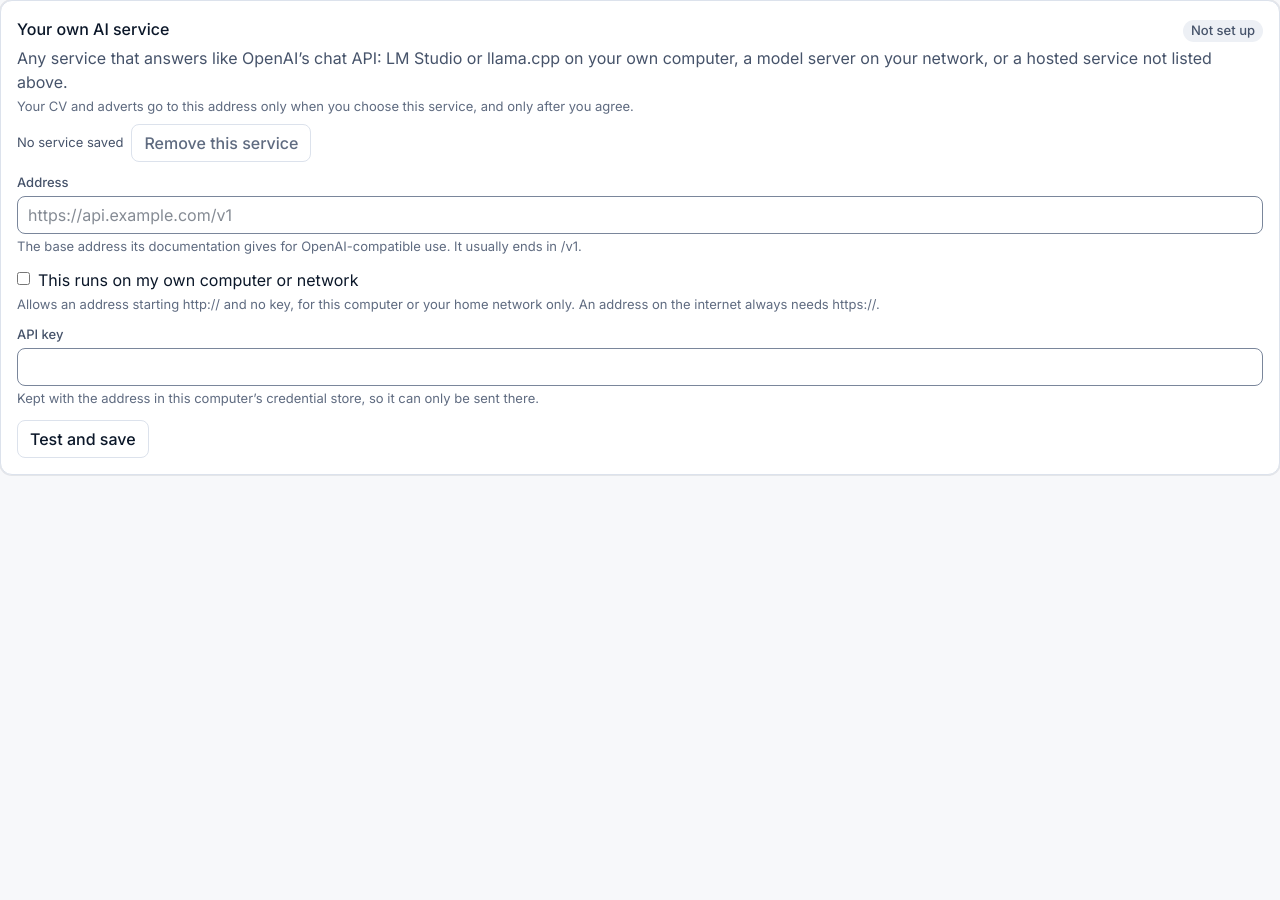
setting it up › happy: a service on the user’s own network saves with the box ticked and no key
Type "http://localhost:1234/v1" into the field with test id "custom-service-address" at x=640, y=215, box [17, 196, 1263, 234]
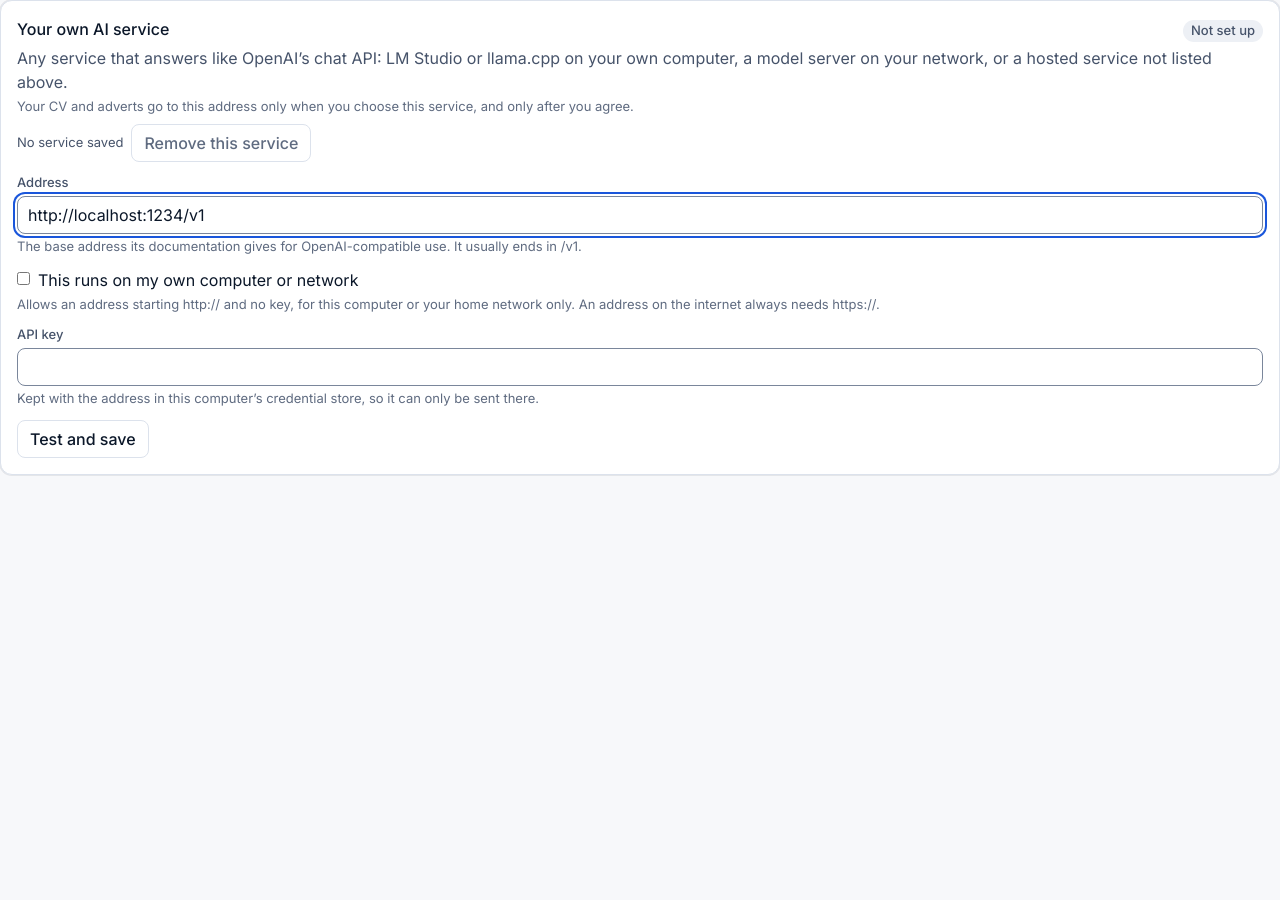
Click the checkbox with test id "custom-service-own-network" at x=24, y=278, box [17, 272, 30, 285]
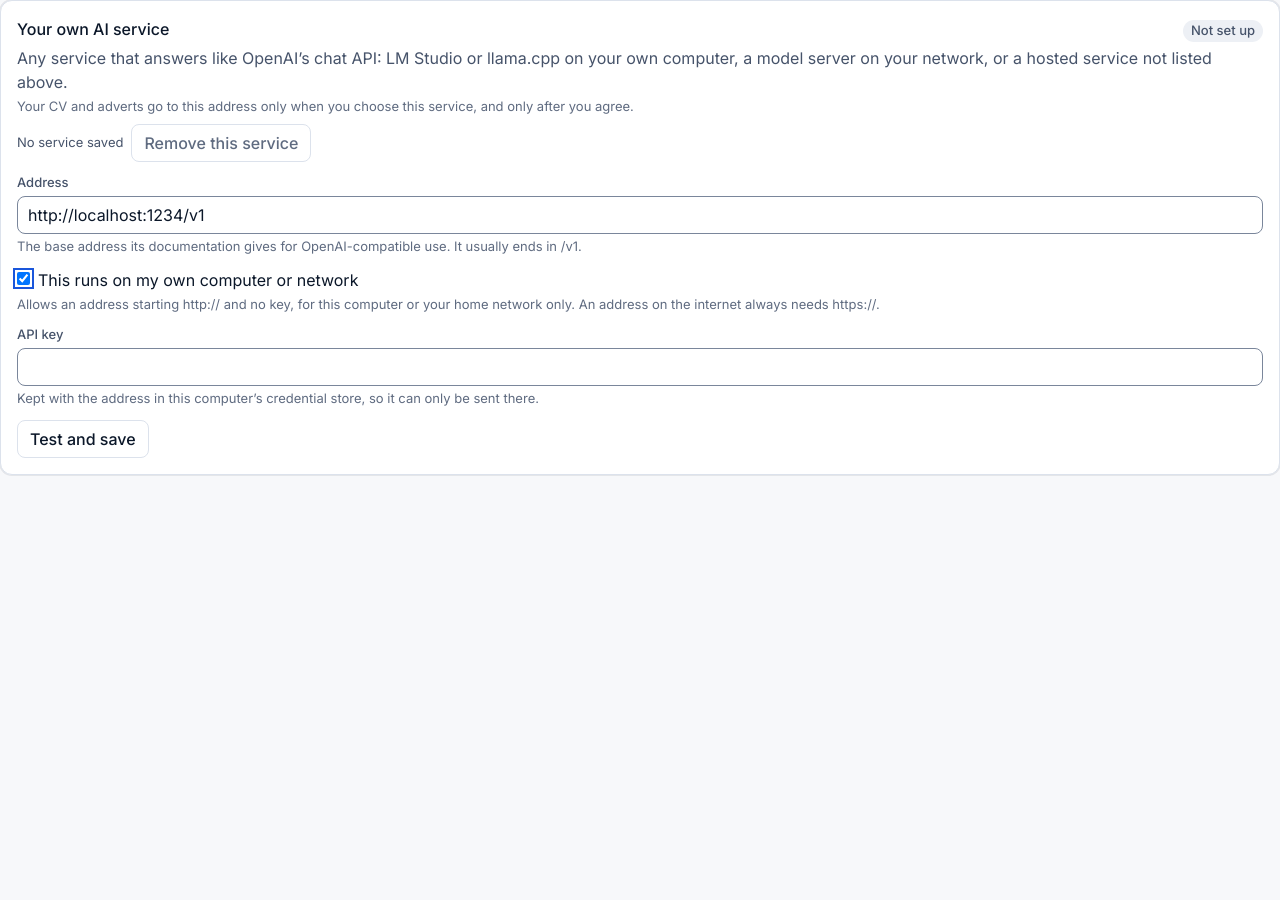
Click the button with test id "custom-service-save" at x=83, y=439, box [17, 420, 148, 458]
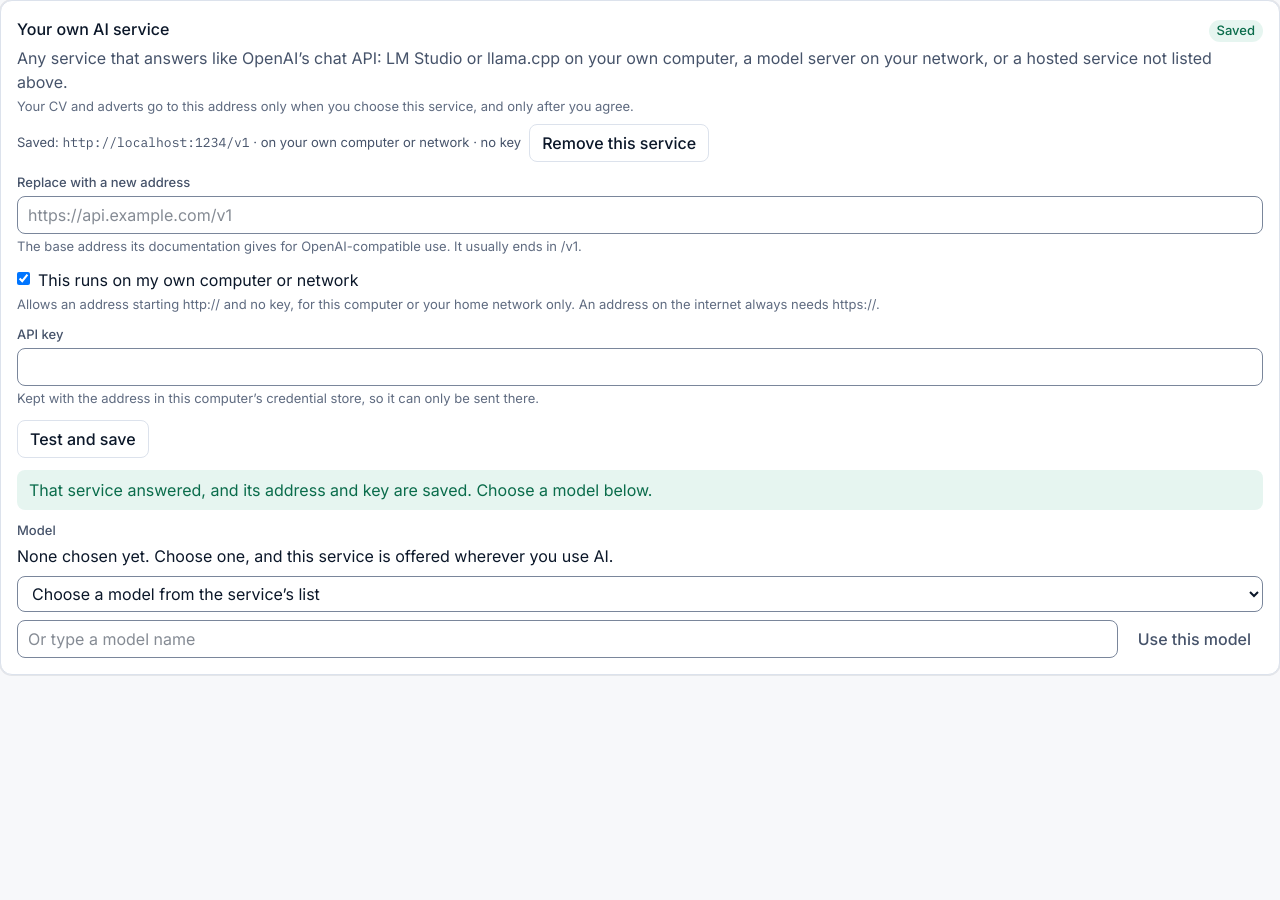
Result: the element with test id "custom-service-saved" shows "your own computer or network" at [250, 134, 470, 150]
Result: the element with test id "custom-service-saved" shows "no key" at [470, 134, 521, 150]
